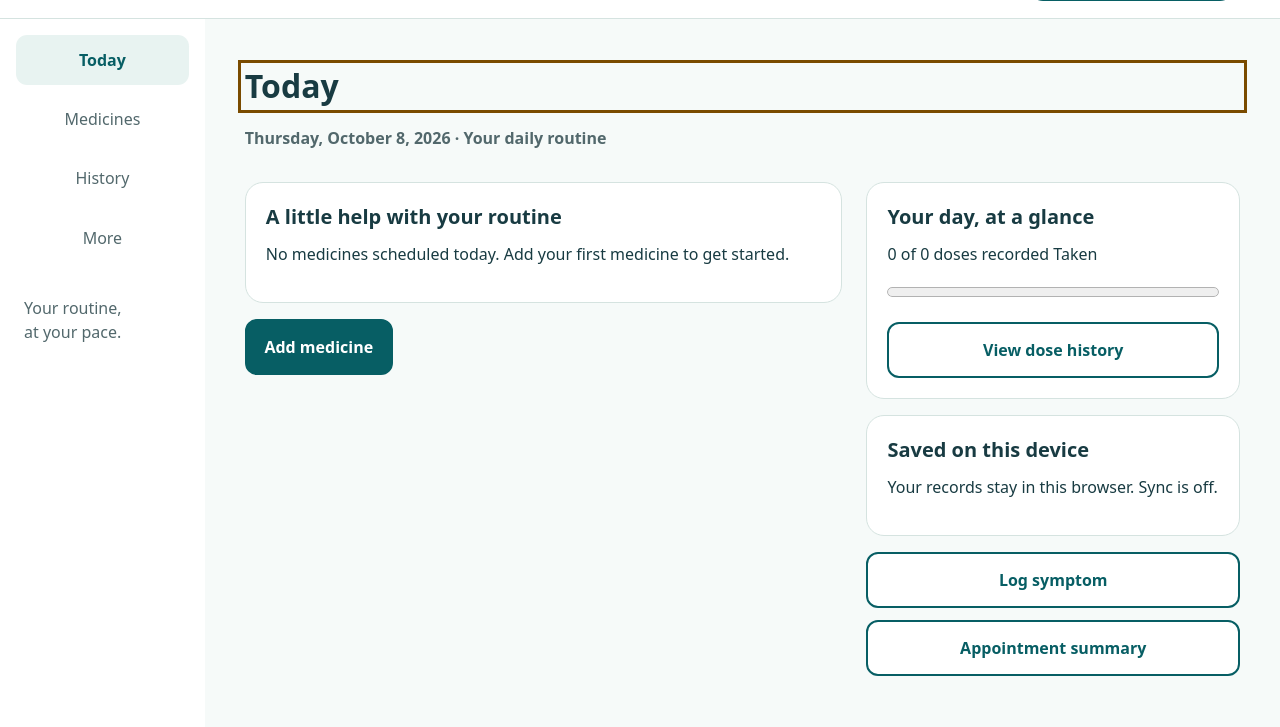
Test: shows all empty states through primary navigation
Step 1. Click the link "Medicines" → (102, 119), box x1=64 y1=108 x2=140 y2=130
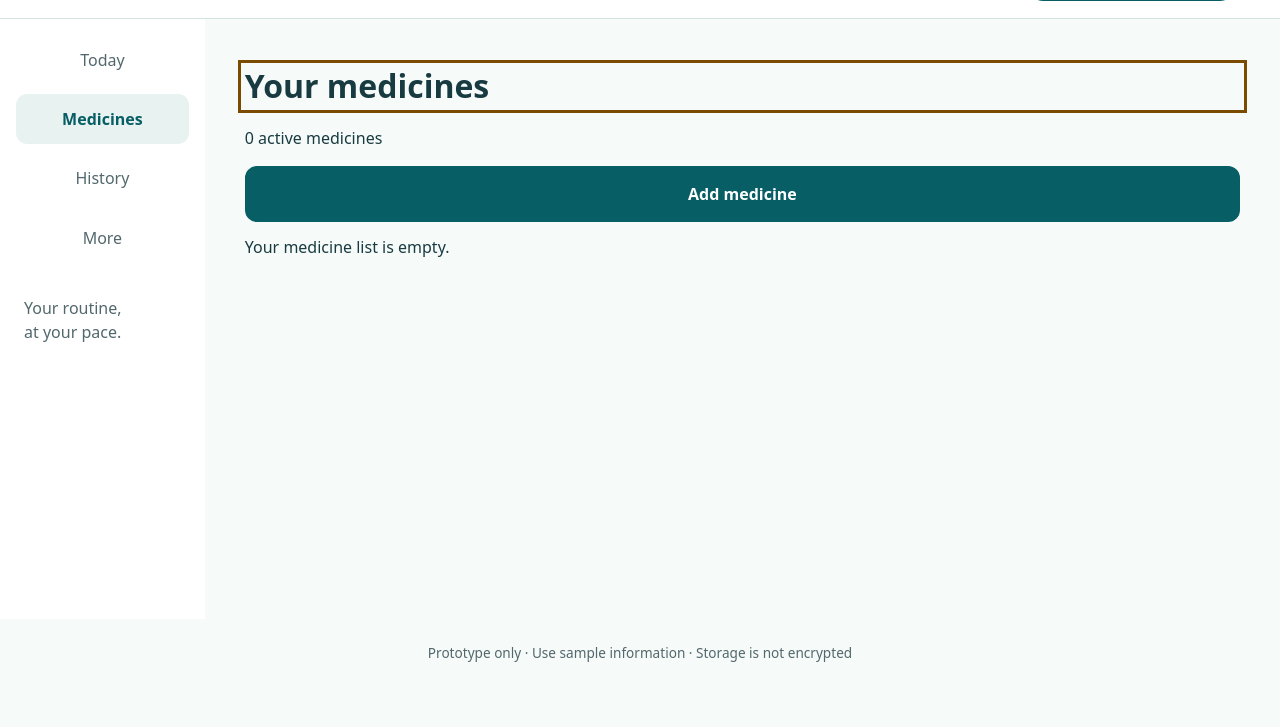
Expected: the text "Your medicine list is empty." is shown, x1=245 y1=236 x2=449 y2=258
Step 2. Click the link "History" → (102, 178), box x1=76 y1=167 x2=129 y2=189
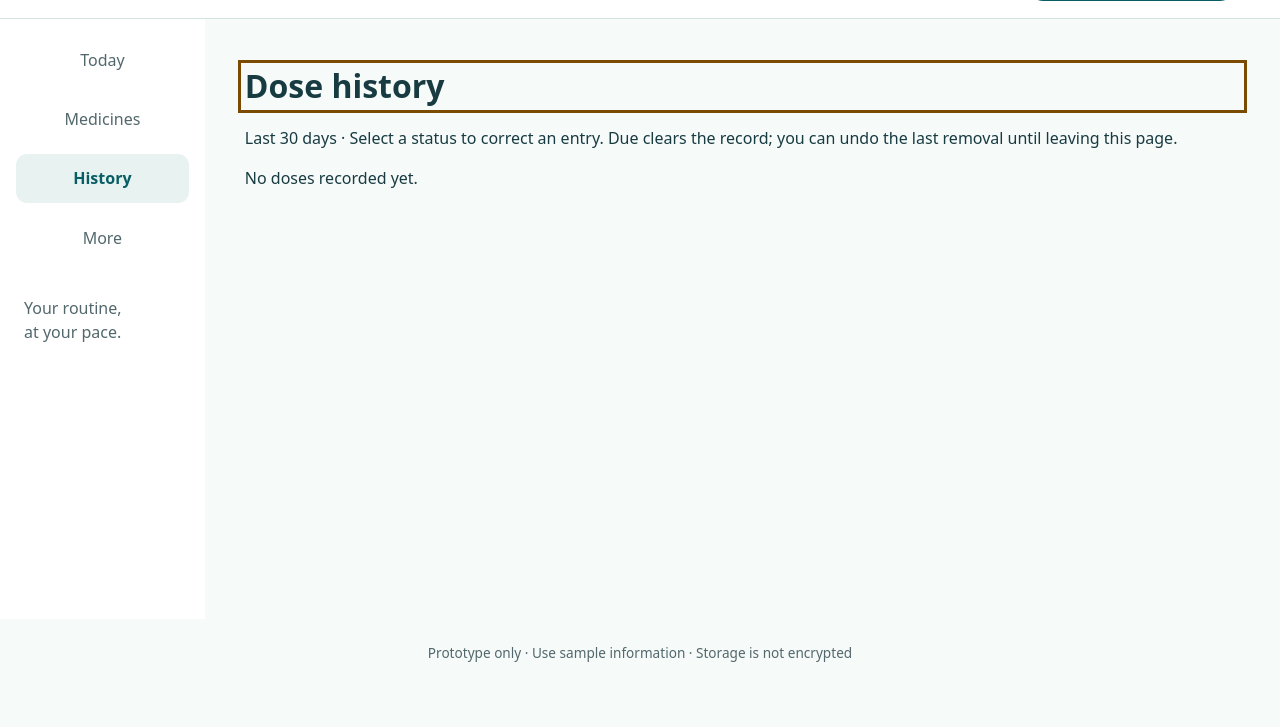
Expected: the text "No doses recorded yet." is shown, x1=245 y1=167 x2=418 y2=189
Step 3. Click the link "More" → (102, 238), box x1=83 y1=226 x2=122 y2=248
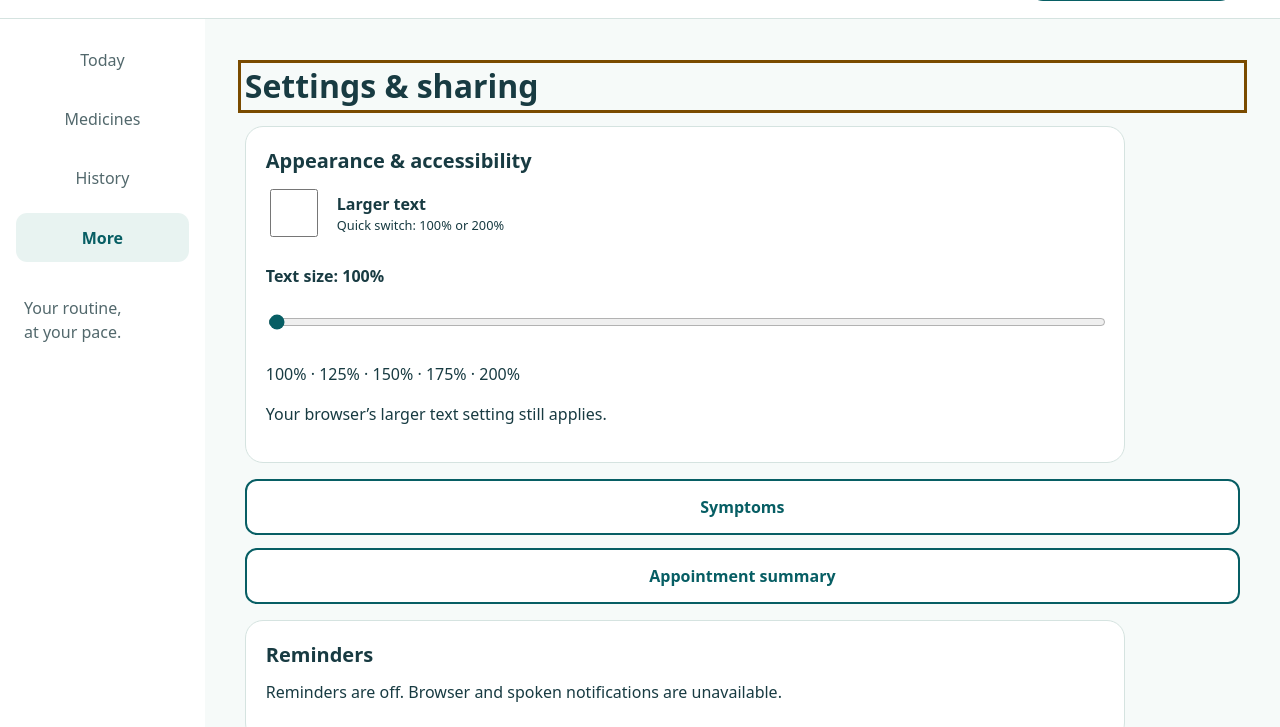
Expected: the link "More" is marked as current, x1=16 y1=213 x2=189 y2=262
Step 4. Click the link "Symptoms" → (742, 507), box x1=245 y1=479 x2=1240 y2=535
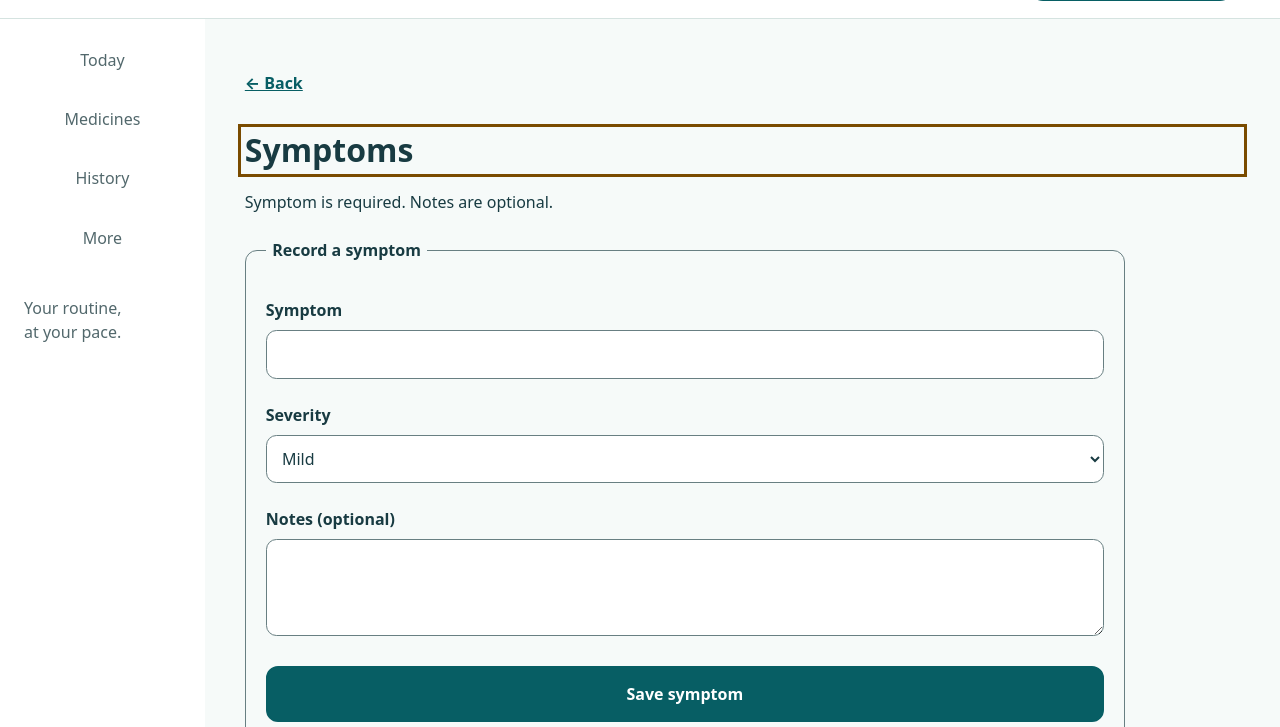
Step 5. Click the link "← Back" → (274, 83), box x1=245 y1=72 x2=303 y2=94
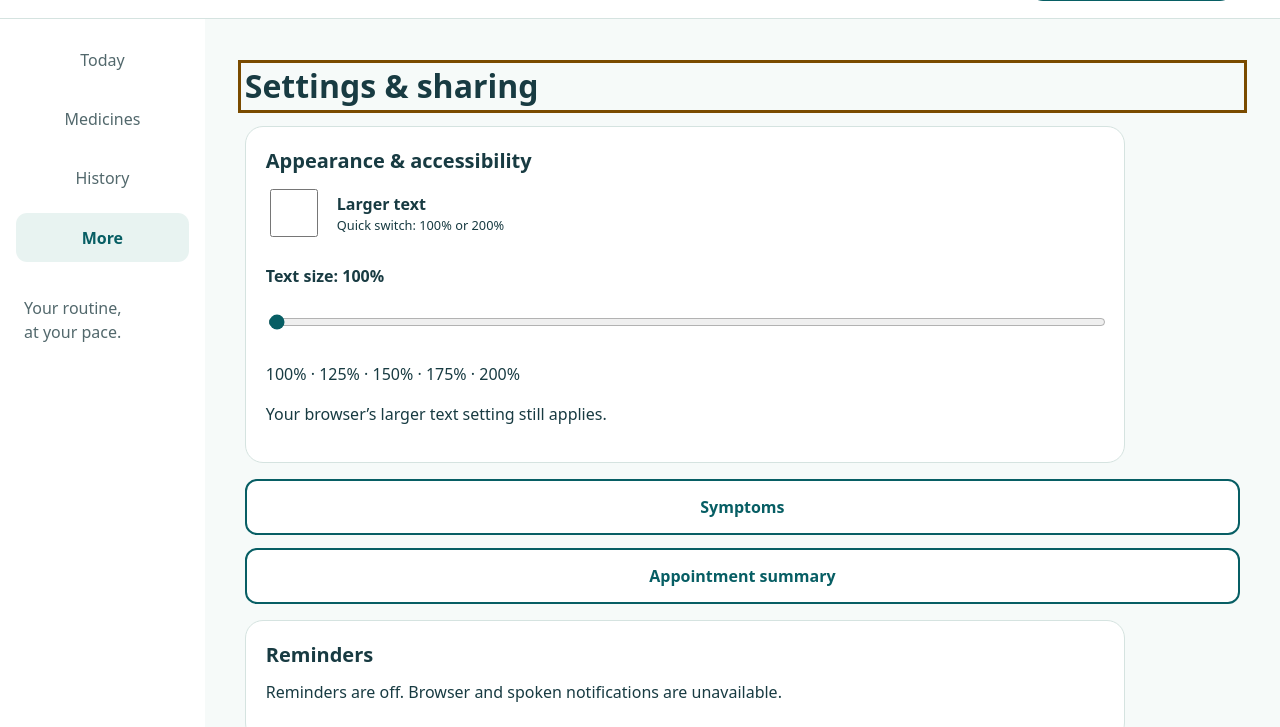
Step 6. Click the link "Appointment summary" → (742, 576), box x1=245 y1=548 x2=1240 y2=604
(page scrolled)
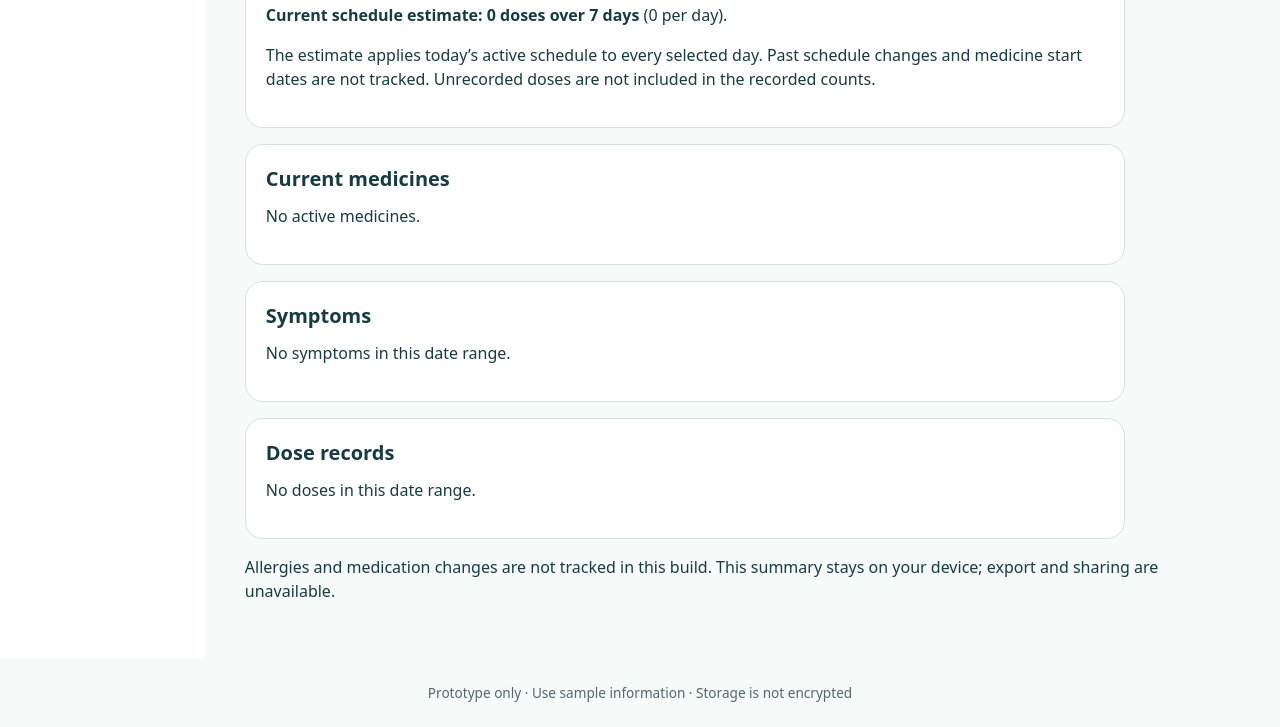
Expected: the text "No active medicines." is shown, x1=266 y1=205 x2=420 y2=227
Expected: the text "No symptoms in this date range." is shown, x1=266 y1=342 x2=511 y2=364
Expected: the text "No doses in this date range." is shown, x1=266 y1=479 x2=476 y2=501
